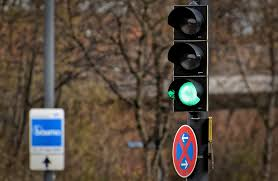green: (168, 3, 213, 115), (174, 6, 205, 110), (177, 12, 202, 107)
